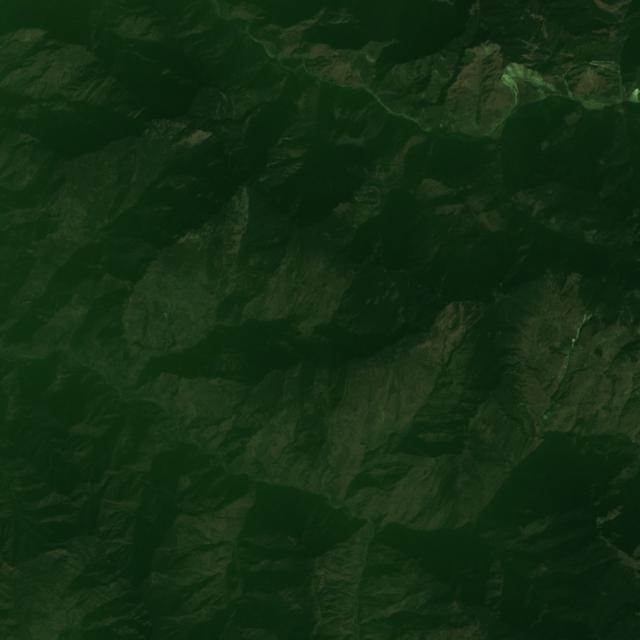landslides: (248, 59, 270, 84), (587, 60, 619, 71), (580, 96, 603, 111), (564, 70, 574, 99), (481, 41, 496, 60), (521, 40, 545, 51), (533, 103, 551, 117), (243, 89, 258, 103), (587, 68, 595, 94), (543, 409, 563, 419), (275, 137, 293, 148), (356, 67, 365, 87), (570, 61, 586, 70), (501, 148, 510, 164), (621, 81, 635, 89), (628, 90, 636, 104), (470, 117, 478, 130)
